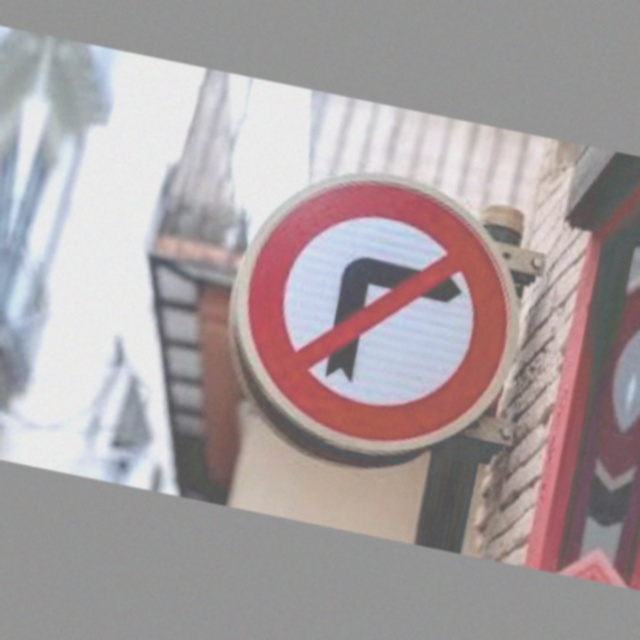Right_Turn_Prohibited: (209, 152, 538, 489)
